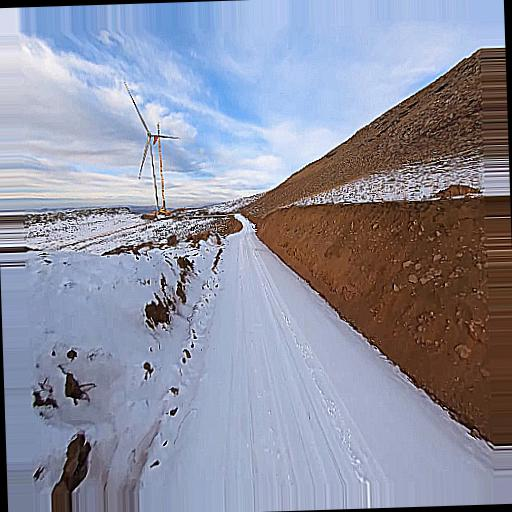wind turbine: (122, 82, 185, 206)
